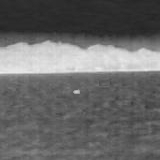Target: (72, 89, 81, 95)
